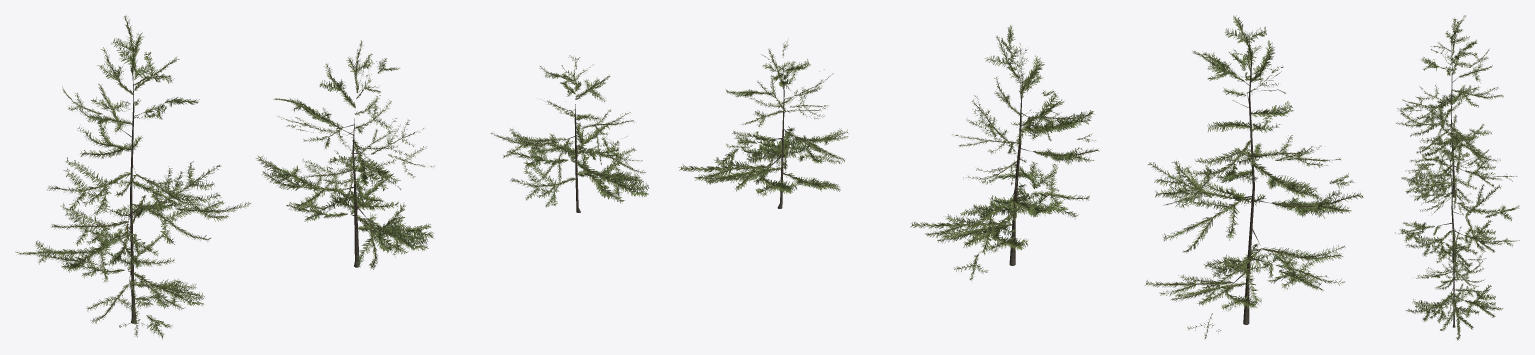
The model's file is fir_sapling.glb.
The picture shows the model from 3 angles, left to right: view 1: azimuth 30°, elevation 25°; view 2: azimuth 150°, elevation 25°; view 3: azimuth 270°, elevation 25°; orthographic projection. The views are drawn at different scales.
Visible parts, largest first — view 1: fir_sapling_a, fir_sapling_b, fir_sapling_c; view 2: fir_sapling_a, fir_sapling_b, fir_sapling_c; view 3: fir_sapling_a, fir_sapling_b, fir_sapling_c.
Boxes of the visible parts, x1,y1,x2,y2 form: fir_sapling_a: (15,15,250,339); fir_sapling_b: (255,40,434,269); fir_sapling_c: (490,55,649,212); fir_sapling_a: (1145,15,1363,338); fir_sapling_b: (910,25,1099,280); fir_sapling_c: (678,39,848,208); fir_sapling_a: (1396,15,1517,209); fir_sapling_b: (1395,128,1519,275); fir_sapling_c: (1405,226,1503,340).
Bounding box in the file's own units: 2.74 × 1.3 × 0.8167.
Materials: 2 (2 with a texture image).
